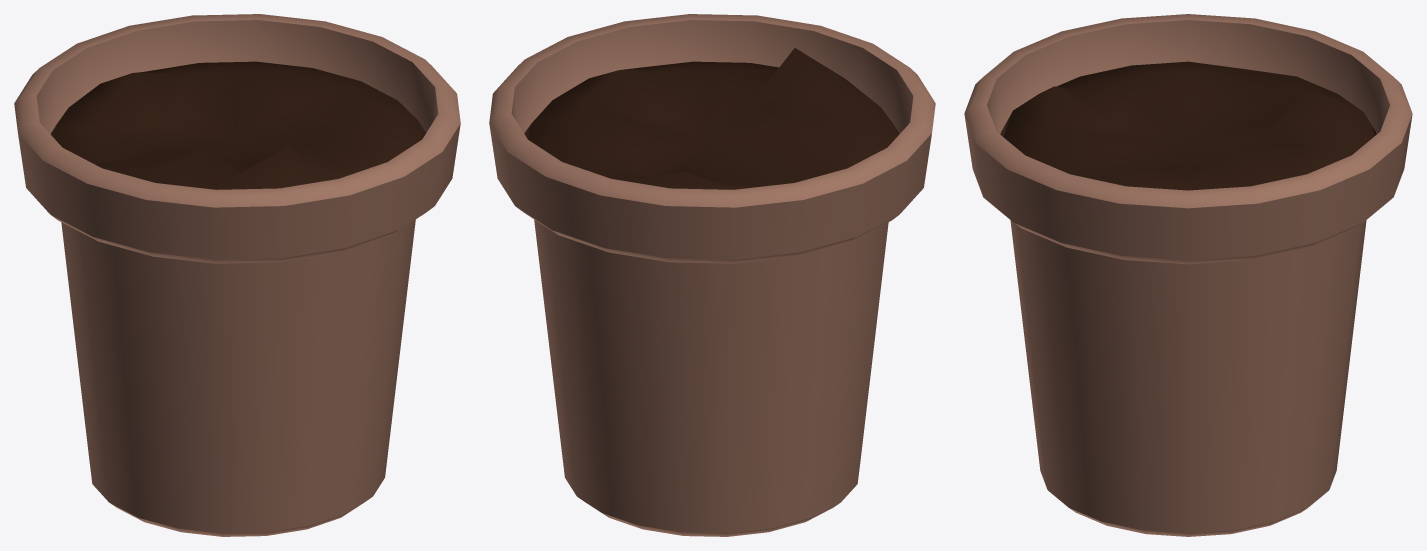
Rendered from FlowerPot.fbx.
3 views of the same model, side by side, from view 1: azimuth 30°, elevation 25°; view 2: azimuth 150°, elevation 25°; view 3: azimuth 270°, elevation 25° (orthographic).
Visible parts, largest first — view 1: FlowerPot; view 2: FlowerPot; view 3: FlowerPot.
Boxes of the visible parts, left/top/right/bottom form: FlowerPot: left=14, top=14, right=460, bottom=536; FlowerPot: left=489, top=14, right=935, bottom=536; FlowerPot: left=964, top=14, right=1412, bottom=536.
Bounding box in the file's own units: 35.16 × 33.27 × 35.16.
